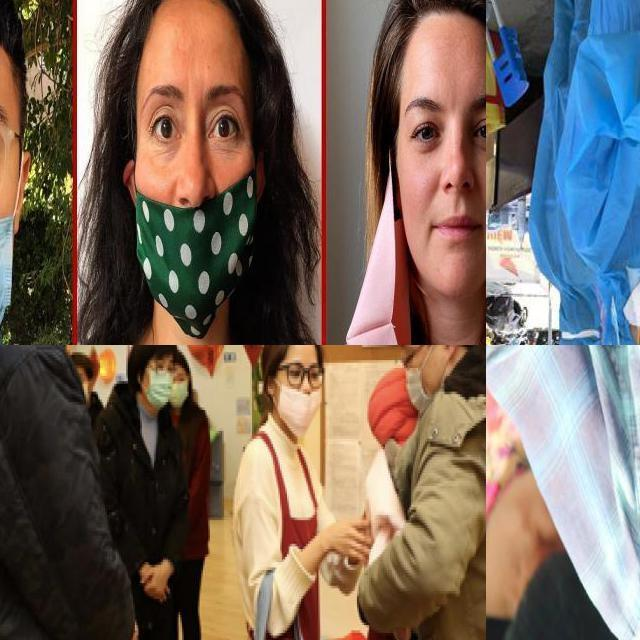hairnet: (137, 156, 251, 306), (280, 381, 321, 431)
